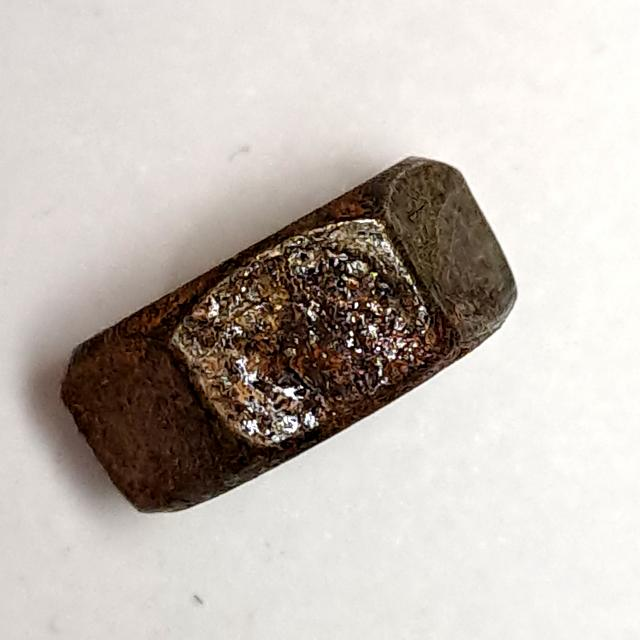Side_Rust: (53, 147, 534, 530)
